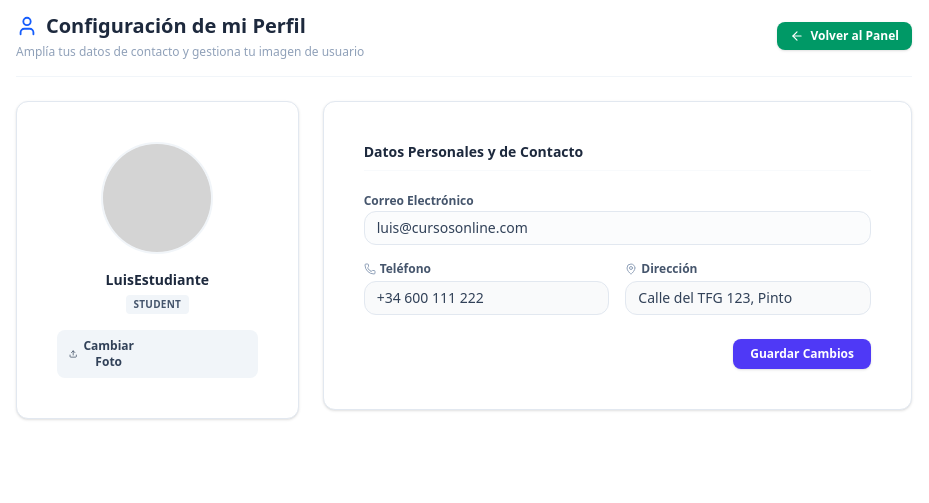
Test: ProfileSettings Component - Pruebas de Carga e Interacción [ADR-13] › CASO NEGATIVO: Debe mostrar error si el backend falla al guardar los datos del perfil
The image size is (929, 503).
Click the button "Guardar Cambios" at point(802, 354), box [733, 339, 871, 369]
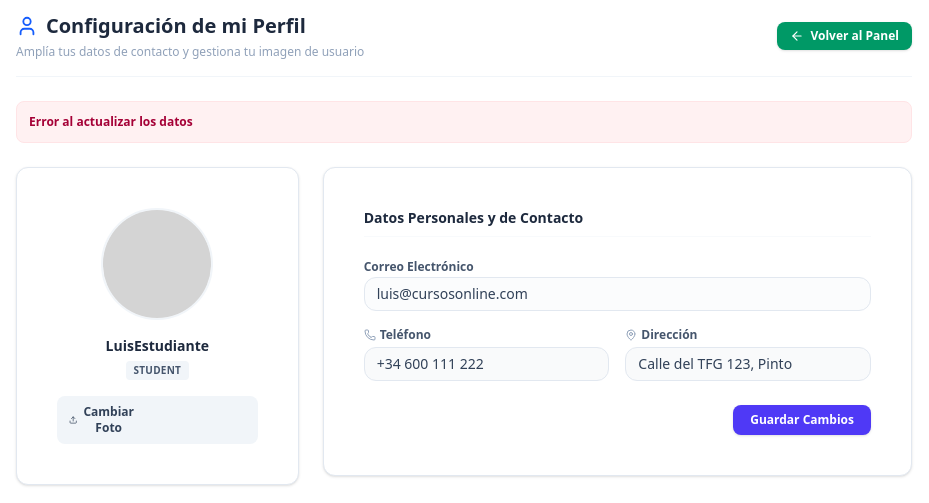
Expected: the text "Error al actualizar los datos" is shown, [29, 114, 193, 130]
